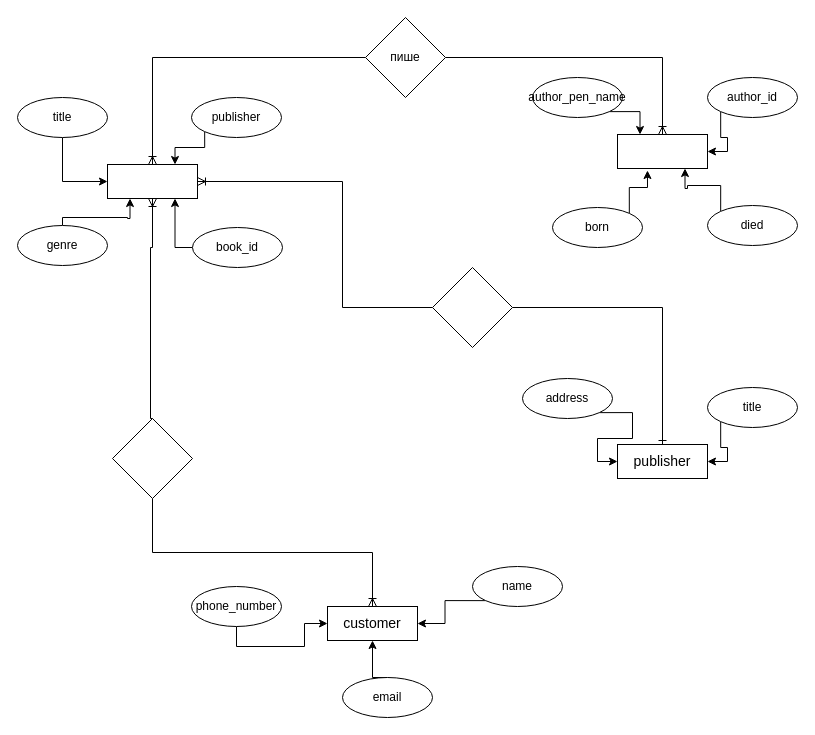
The diagram is 815 pixels wide and 735 high, and some of its shapes have lost their labels. The shapes that lost their labels are listed below. From the top down, each one's centre as x and y in pixels, then its label:
the point at 662,151: author
the point at 152,181: books
the point at 472,307: публікує
the point at 152,458: купує
